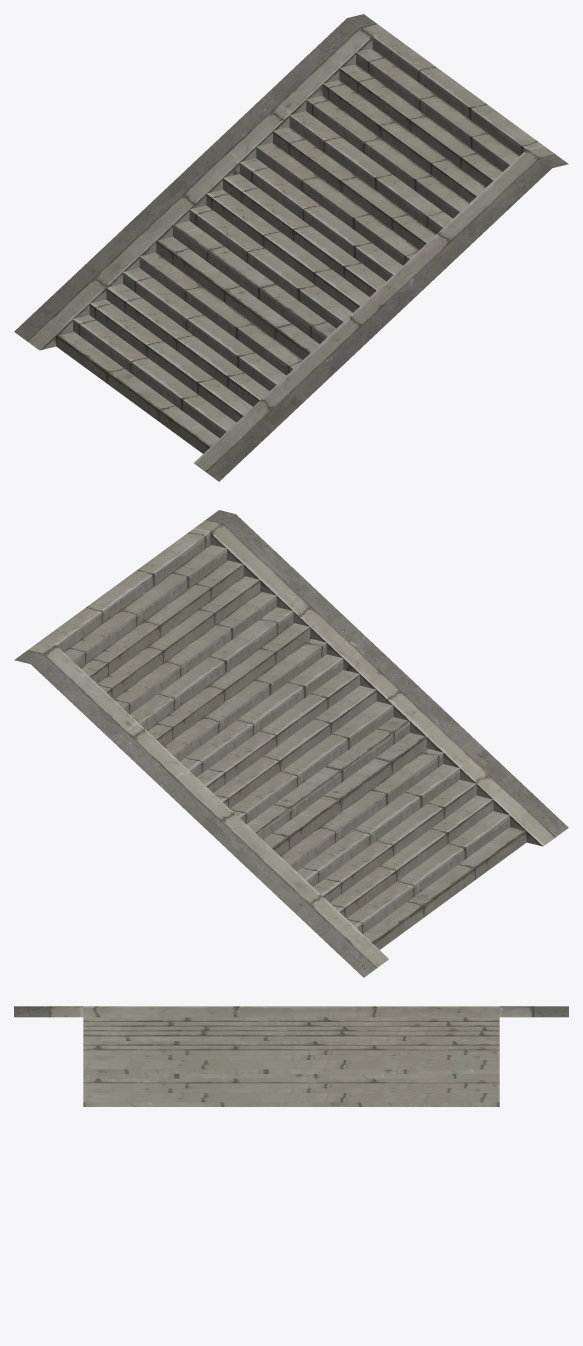
The picture shows the model from 3 angles, top to bottom: view 1: azimuth 30°, elevation 25°; view 2: azimuth 150°, elevation 25°; view 3: azimuth 270°, elevation 25°; orthographic projection. The views are drawn at different scales.
Visible parts, largest first — view 1: body0_model0_lod0_mesh1, body0_model0_lod0_mesh0; view 2: body0_model0_lod0_mesh1, body0_model0_lod0_mesh0; view 3: body0_model0_lod0_mesh1, body0_model0_lod0_mesh0.
Part boxes in pixels (left/top/right/bottom): body0_model0_lod0_mesh1: left=27, top=23, right=555, bottom=472; body0_model0_lod0_mesh0: left=14, top=14, right=568, bottom=481; body0_model0_lod0_mesh1: left=27, top=519, right=555, bottom=968; body0_model0_lod0_mesh0: left=14, top=510, right=568, bottom=977; body0_model0_lod0_mesh1: left=48, top=1006, right=534, bottom=1106; body0_model0_lod0_mesh0: left=14, top=1006, right=568, bottom=1017.
Bounding box in the file's own units: 252 × 160 × 256.
Materials: 2 (2 with a texture image).
